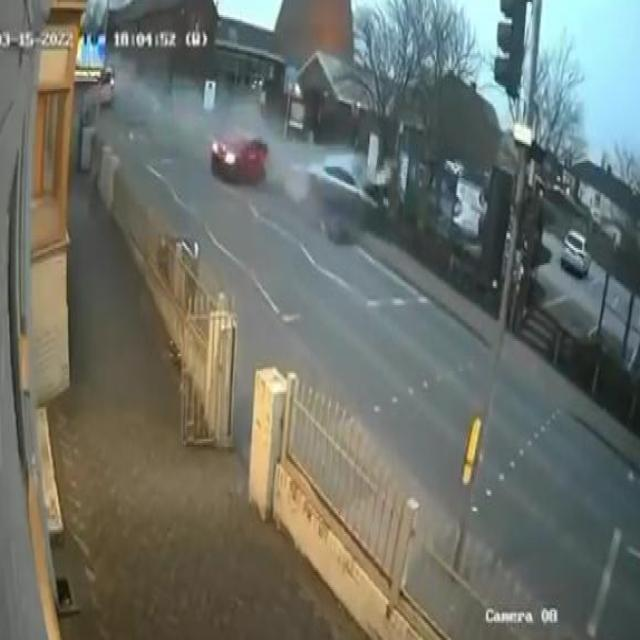accident: (202, 112, 398, 236)
